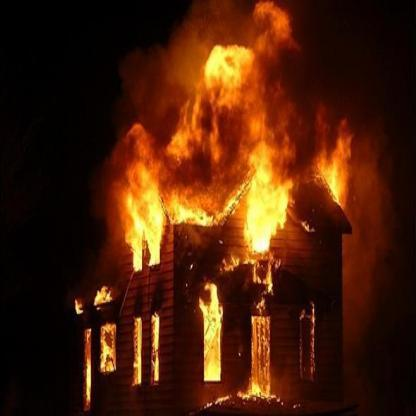Fire: (74, 0, 364, 415)
